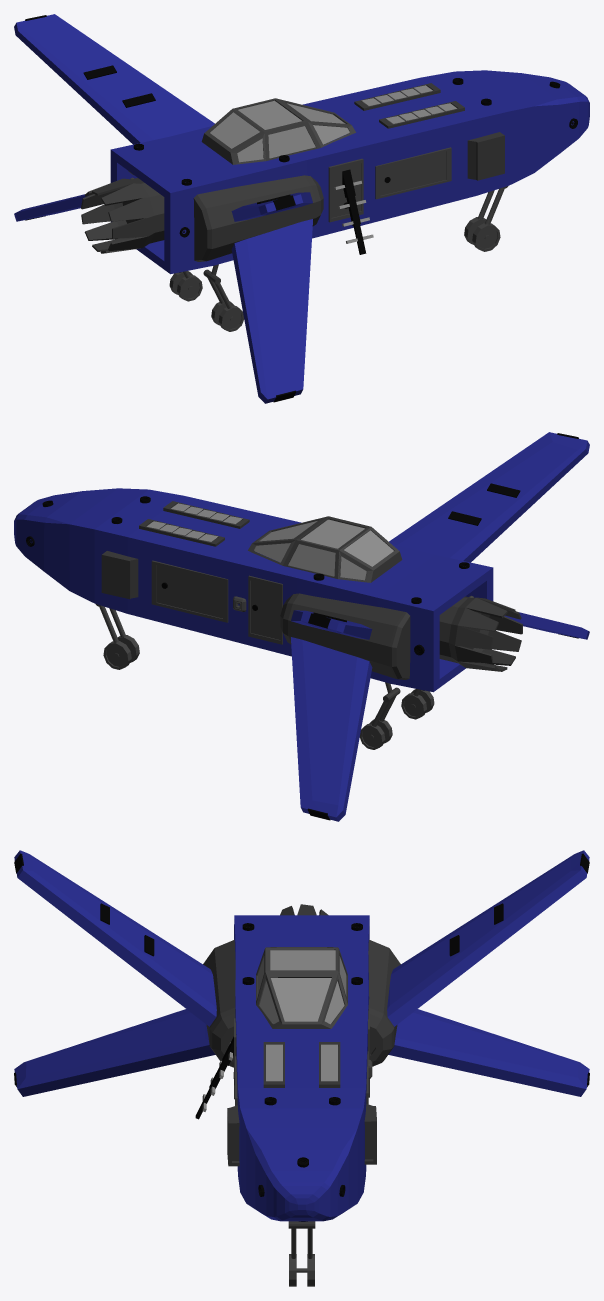
File: FighterGen7_blue_closed.glb
3 renders of one model, top to bottom at view 1: azimuth 30°, elevation 25°; view 2: azimuth 150°, elevation 25°; view 3: azimuth 270°, elevation 25°, orthographic. The views are drawn at different scales.
Visible parts, largest first — view 1: Body, Cube.003, Cylinder, Cylinder.002, Cube.099, Cube.116, Cube.043, Cube.120, Cube.108, Cube.104, Cube.105, Cube.106 (+3 smaller); view 2: Body, Cube.003, Cylinder, Cylinder.002, Cube.114, Cube.099, Cube.115, Cube.043, Cube.108, Cube.104, Cube.105, Cube.106 (+3 smaller); view 3: Cube.003, Body, Cylinder, Cube.099, Cube.102, Cube.043, Cube.104, Cube.103, Cube.108.
Boxes of the visible parts, left/top/right/bottom form: Body: left=110, top=70, right=589, bottom=274; Cube.003: left=14, top=14, right=312, bottom=403; Cylinder: left=193, top=175, right=323, bottom=261; Cylinder.002: left=81, top=178, right=164, bottom=253; Cube.099: left=201, top=98, right=355, bottom=164; Cube.116: left=375, top=147, right=451, bottom=199; Cube.043: left=467, top=132, right=504, bottom=180; Cube.120: left=328, top=158, right=363, bottom=222; Cube.108: left=354, top=83, right=464, bottom=128; Cube.104: left=238, top=100, right=301, bottom=129; Cube.105: left=268, top=126, right=315, bottom=158; Cube.106: left=210, top=112, right=259, bottom=148; Body: left=14, top=488, right=493, bottom=692; Cube.003: left=291, top=432, right=589, bottom=821; Cylinder: left=280, top=593, right=410, bottom=679; Cylinder.002: left=439, top=596, right=522, bottom=671; Cube.114: left=151, top=560, right=228, bottom=622; Cube.099: left=248, top=516, right=402, bottom=582; Cube.115: left=248, top=575, right=282, bottom=644; Cube.043: left=101, top=551, right=138, bottom=599; Cube.108: left=139, top=501, right=249, bottom=546; Cube.104: left=301, top=519, right=364, bottom=548; Cube.105: left=288, top=544, right=335, bottom=576; Cube.106: left=344, top=530, right=393, bottom=566; Cube.003: left=14, top=850, right=589, bottom=1096; Body: left=234, top=915, right=369, bottom=1221; Cylinder: left=203, top=939, right=400, bottom=1067; Cube.099: left=256, top=947, right=347, bottom=1028; Cube.102: left=271, top=977, right=331, bottom=1021; Cube.043: left=227, top=1104, right=376, bottom=1166; Cube.104: left=270, top=950, right=335, bottom=970; Cube.103: left=259, top=981, right=344, bottom=1024; Cube.108: left=263, top=1042, right=340, bottom=1087.
Bounding box in the file's own units: 18.67 × 7.98 × 16.83.
